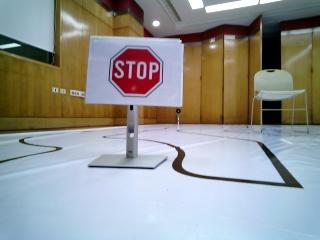stop: (99, 41, 174, 103)
